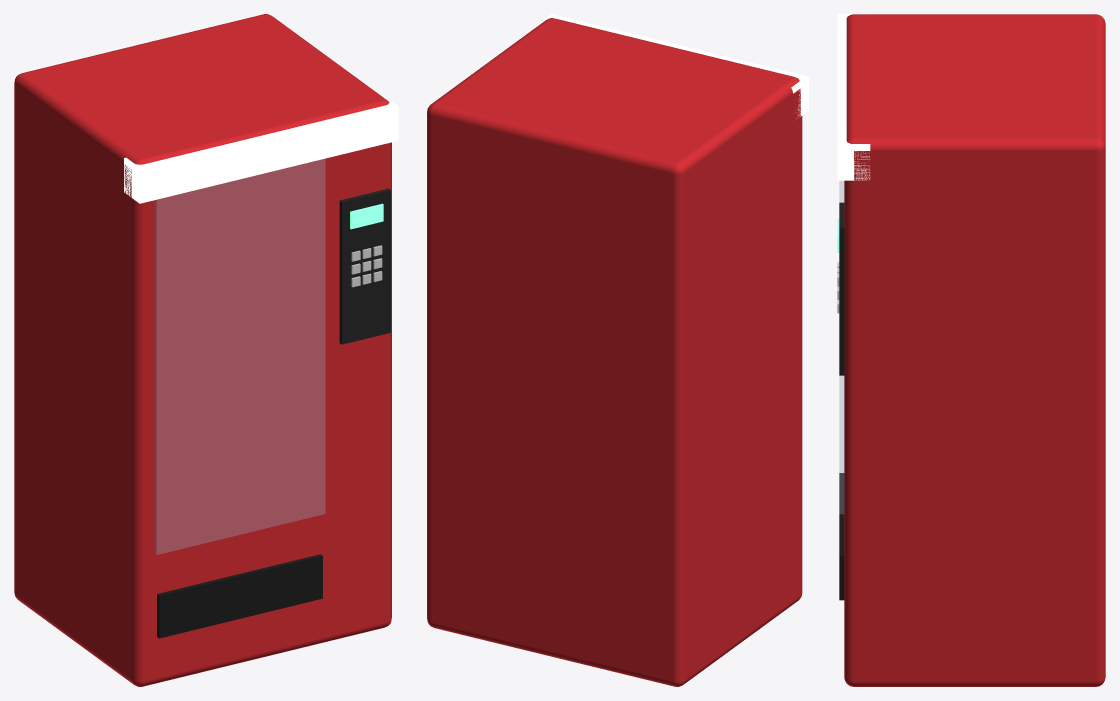
File: vending_machine.glb
3 renders of one model, left to right at view 1: azimuth 30°, elevation 25°; view 2: azimuth 150°, elevation 25°; view 3: azimuth 270°, elevation 25°, orthographic. The views are drawn at different scales.
Parts seen in each view (by area): view 1: main, sign, display; view 2: main, sign; view 3: main, sign.
Boxes of the visible parts, bbox=[...] form: main: bbox=[14, 14, 391, 686]; sign: bbox=[124, 95, 398, 203]; display: bbox=[350, 203, 383, 229]; main: bbox=[427, 18, 802, 686]; sign: bbox=[536, 14, 808, 116]; main: bbox=[837, 14, 1105, 686]; sign: bbox=[837, 14, 870, 180].
Size of the model in its own units: 0.95 by 1.85 by 0.821.
